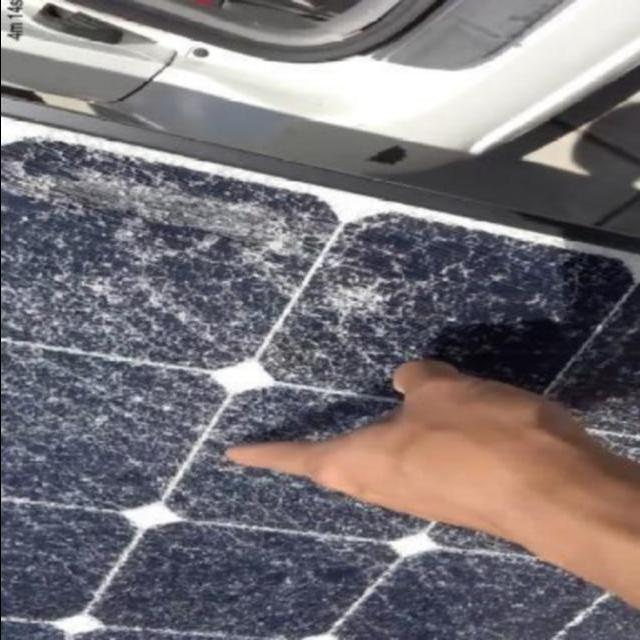cracked: (1, 130, 638, 636)
